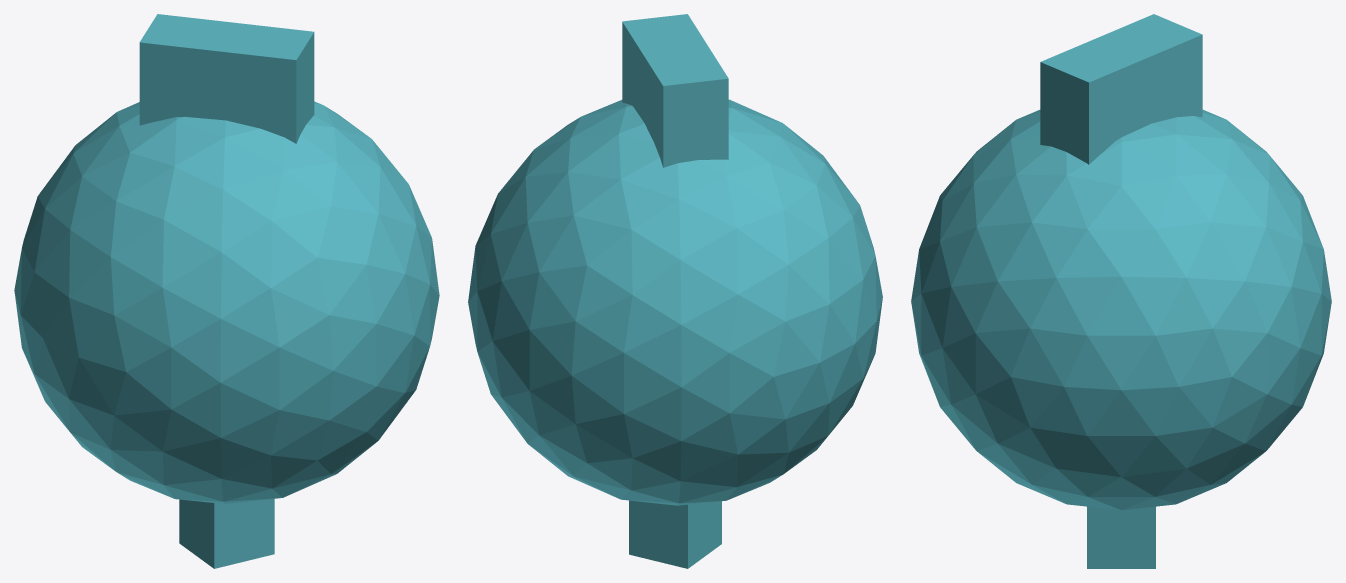
The model's file is luxury_199.glb.
The picture shows the model from 3 angles, left to right: view 1: azimuth 30°, elevation 25°; view 2: azimuth 150°, elevation 25°; view 3: azimuth 270°, elevation 25°; orthographic projection. The views are drawn at different scales.
Parts seen in each view (by area): view 1: world; view 2: world; view 3: world.
Part boxes in pixels (<box>): world: <box>14,14,439,568</box>; world: <box>468,14,882,568</box>; world: <box>911,14,1331,568</box>.
Size of the model in its own units: 1.1 by 1.46 by 1.1.
